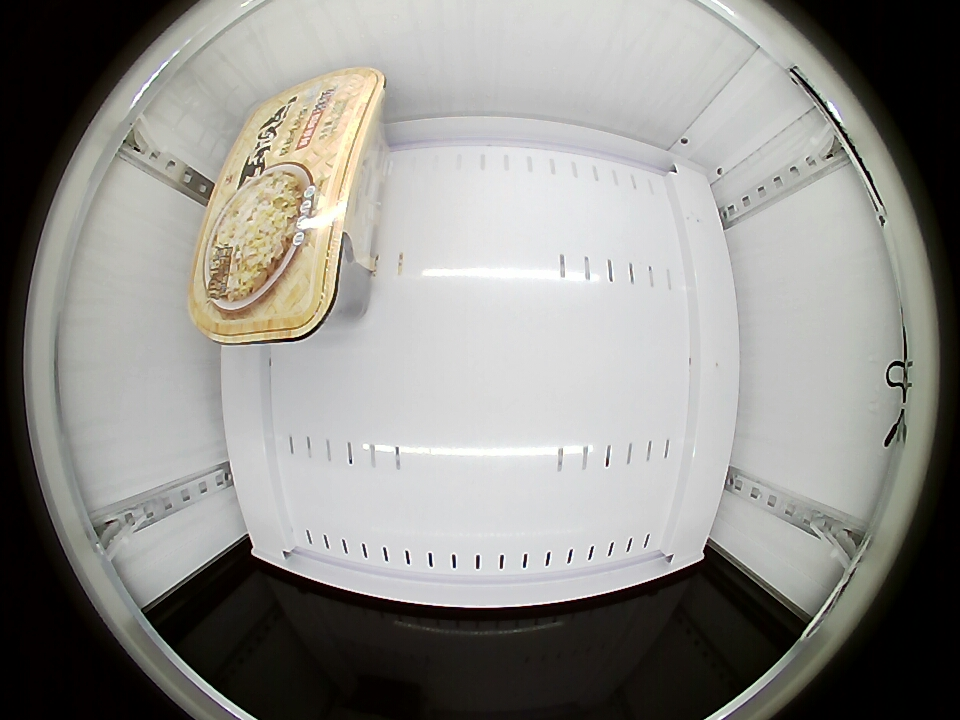daofandian1: (190, 66, 384, 346)
